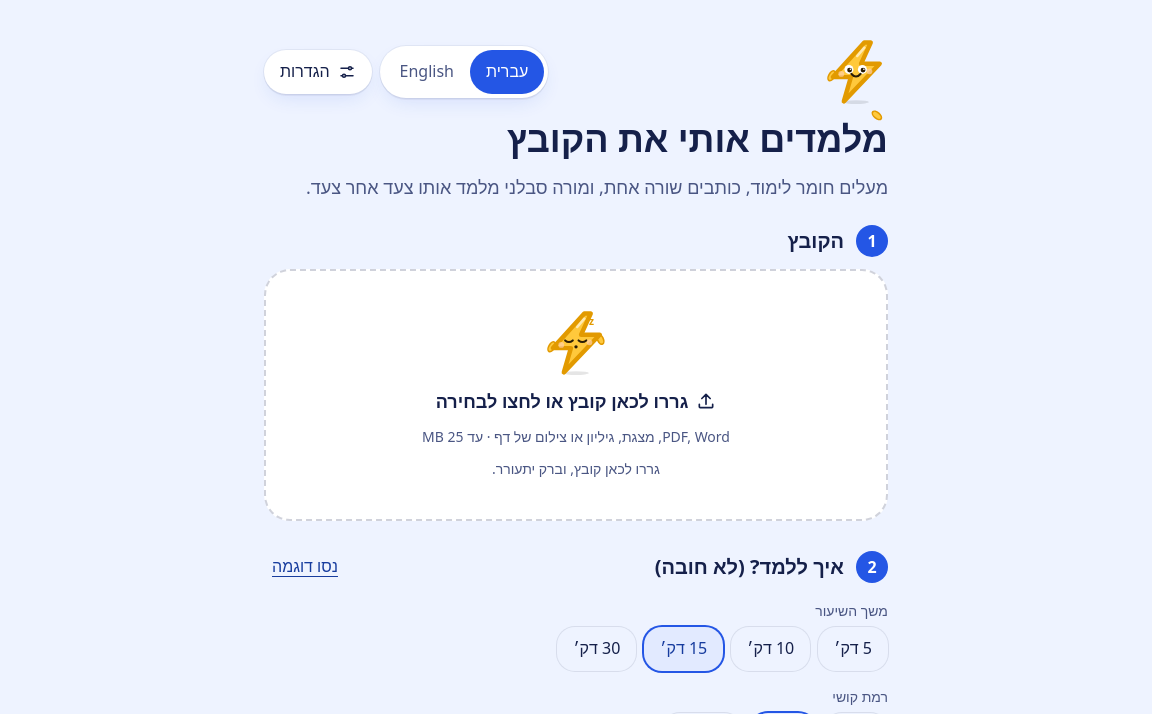
Scenario: the settings panel › the show button reveals the key
The width and height of the screenshot is (1152, 714).
Click the button "הגדרות" at (318, 72), box [264,50,372,94]
(page scrolled)
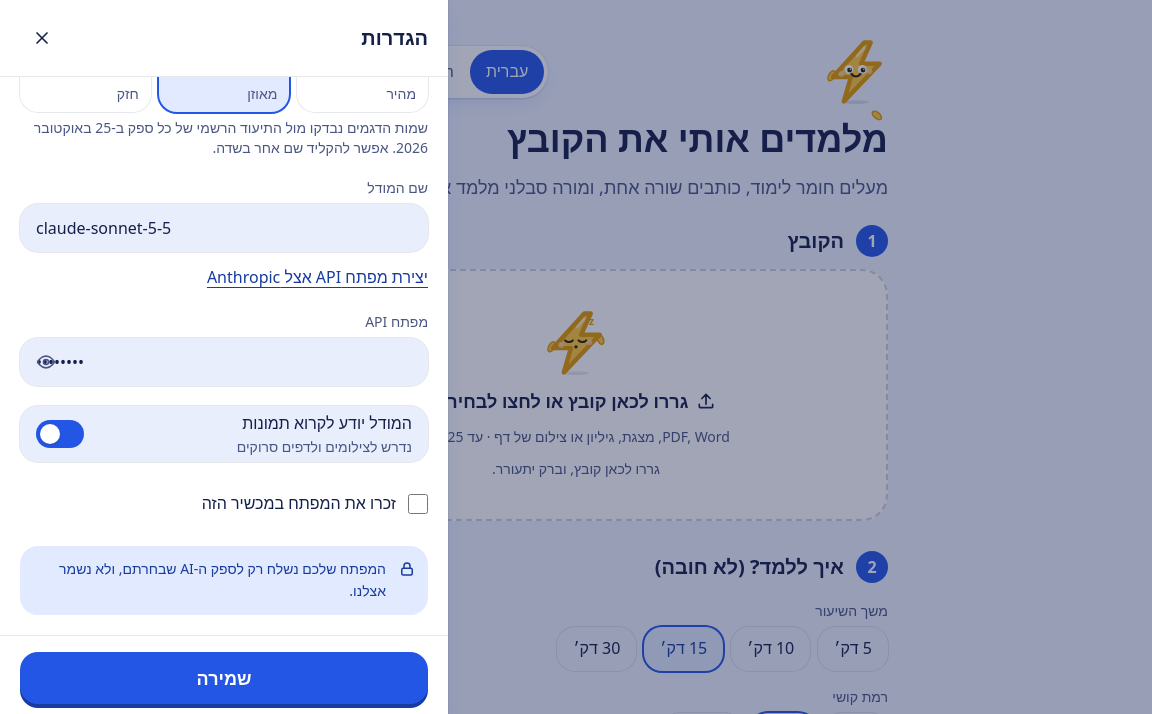
Click the button named "הצגת המפתח" at (46, 362), box [24,338,68,386]
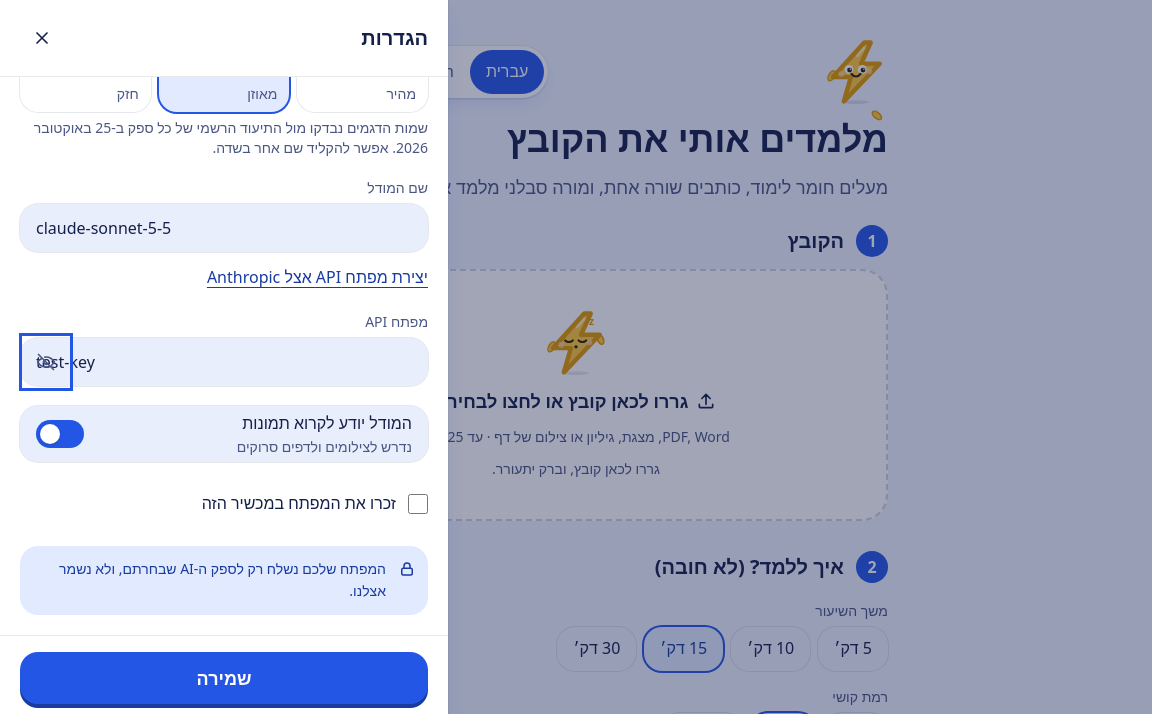
Result: the field labelled "מפתח API" shows its text at [20,338,428,386]
